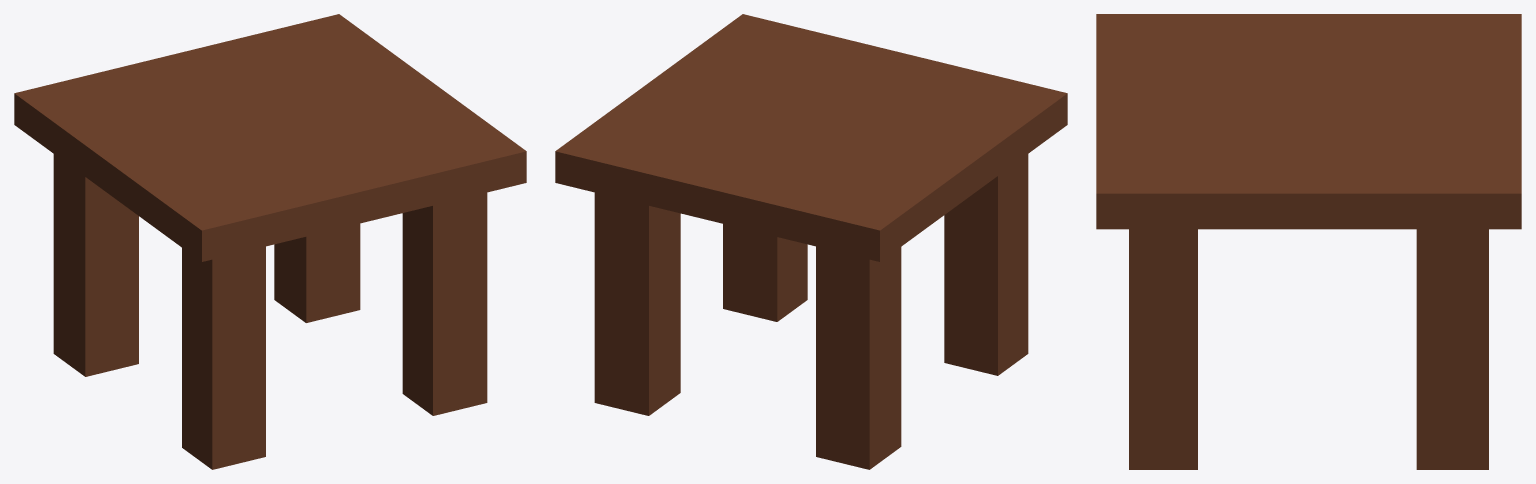
The model's file is Table.fbx.
3 views of the same model, side by side, from view 1: azimuth 30°, elevation 25°; view 2: azimuth 150°, elevation 25°; view 3: azimuth 270°, elevation 25° (orthographic). The views are drawn at different scales.
Visible parts, largest first — view 1: Cube; view 2: Cube; view 3: Cube.
Part boxes in pixels (x1,y1,x2,y2): Cube: (14,14,526,469); Cube: (555,14,1067,469); Cube: (1096,14,1521,469).
Bounding box in the file's own units: 200 × 151 × 200.
